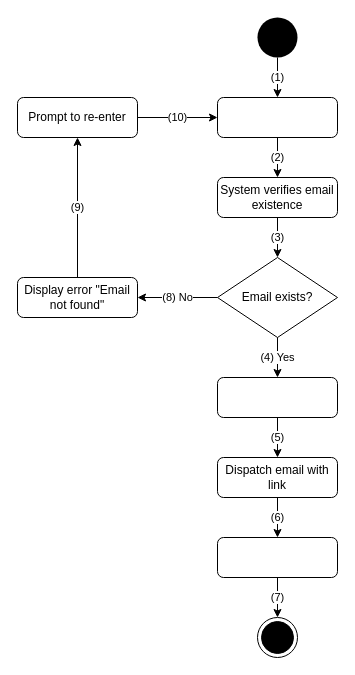
This 355x675 diagram has some shape labels left out. Here are the shapes that lost their labels. From the top down, the centre of each, then its label:
[277,117]: Enter Email & Send Request
[277,397]: Generate reset Token
[277,557]: Display success message
